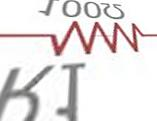resistor: (47, 17, 146, 57)
